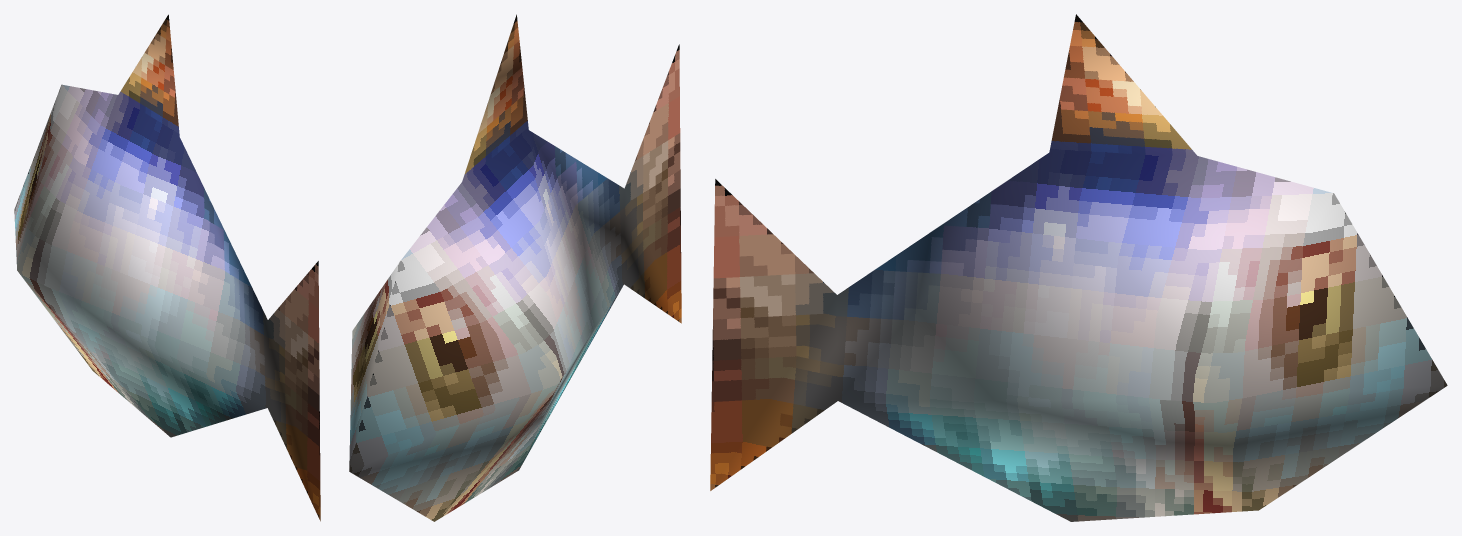
File: fish.obj
3 views of the same model, side by side, from view 1: azimuth 30°, elevation 25°; view 2: azimuth 150°, elevation 25°; view 3: azimuth 270°, elevation 25° (orthographic). The views are drawn at different scales.
Visible parts, largest first — view 1: fish:Geoset0; view 2: fish:Geoset0; view 3: fish:Geoset0.
Boxes of the visible parts, left/top/right/bottom form: fish:Geoset0: left=14, top=14, right=320, bottom=521; fish:Geoset0: left=349, top=14, right=681, bottom=521; fish:Geoset0: left=710, top=14, right=1447, bottom=521.
Bounding box in the file's own units: 0.0956 × 0.202 × 0.2659.
1 material, 1 textured.
